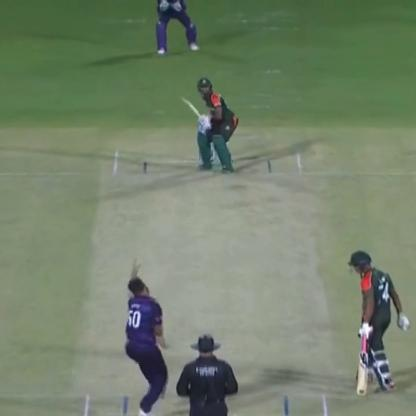bat: (167, 91, 214, 133)
pitch: (54, 142, 365, 415)
